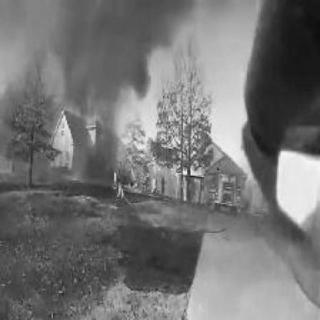Smoke: (53, 1, 185, 119)
